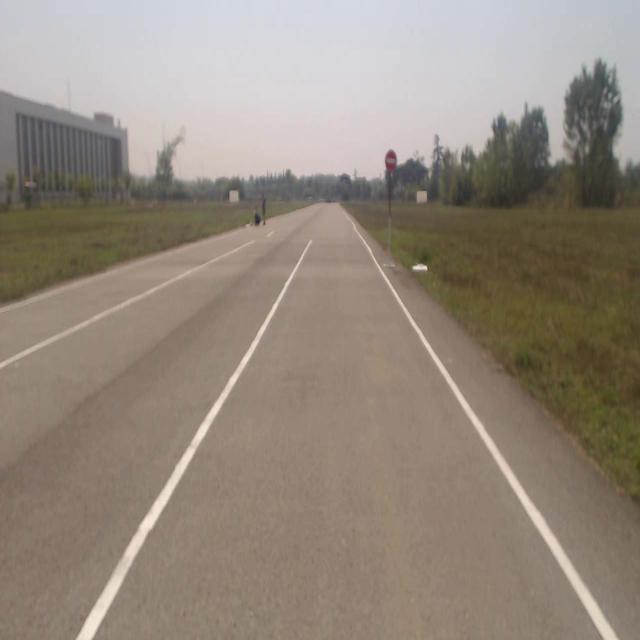girisyok: (385, 150, 397, 171)
